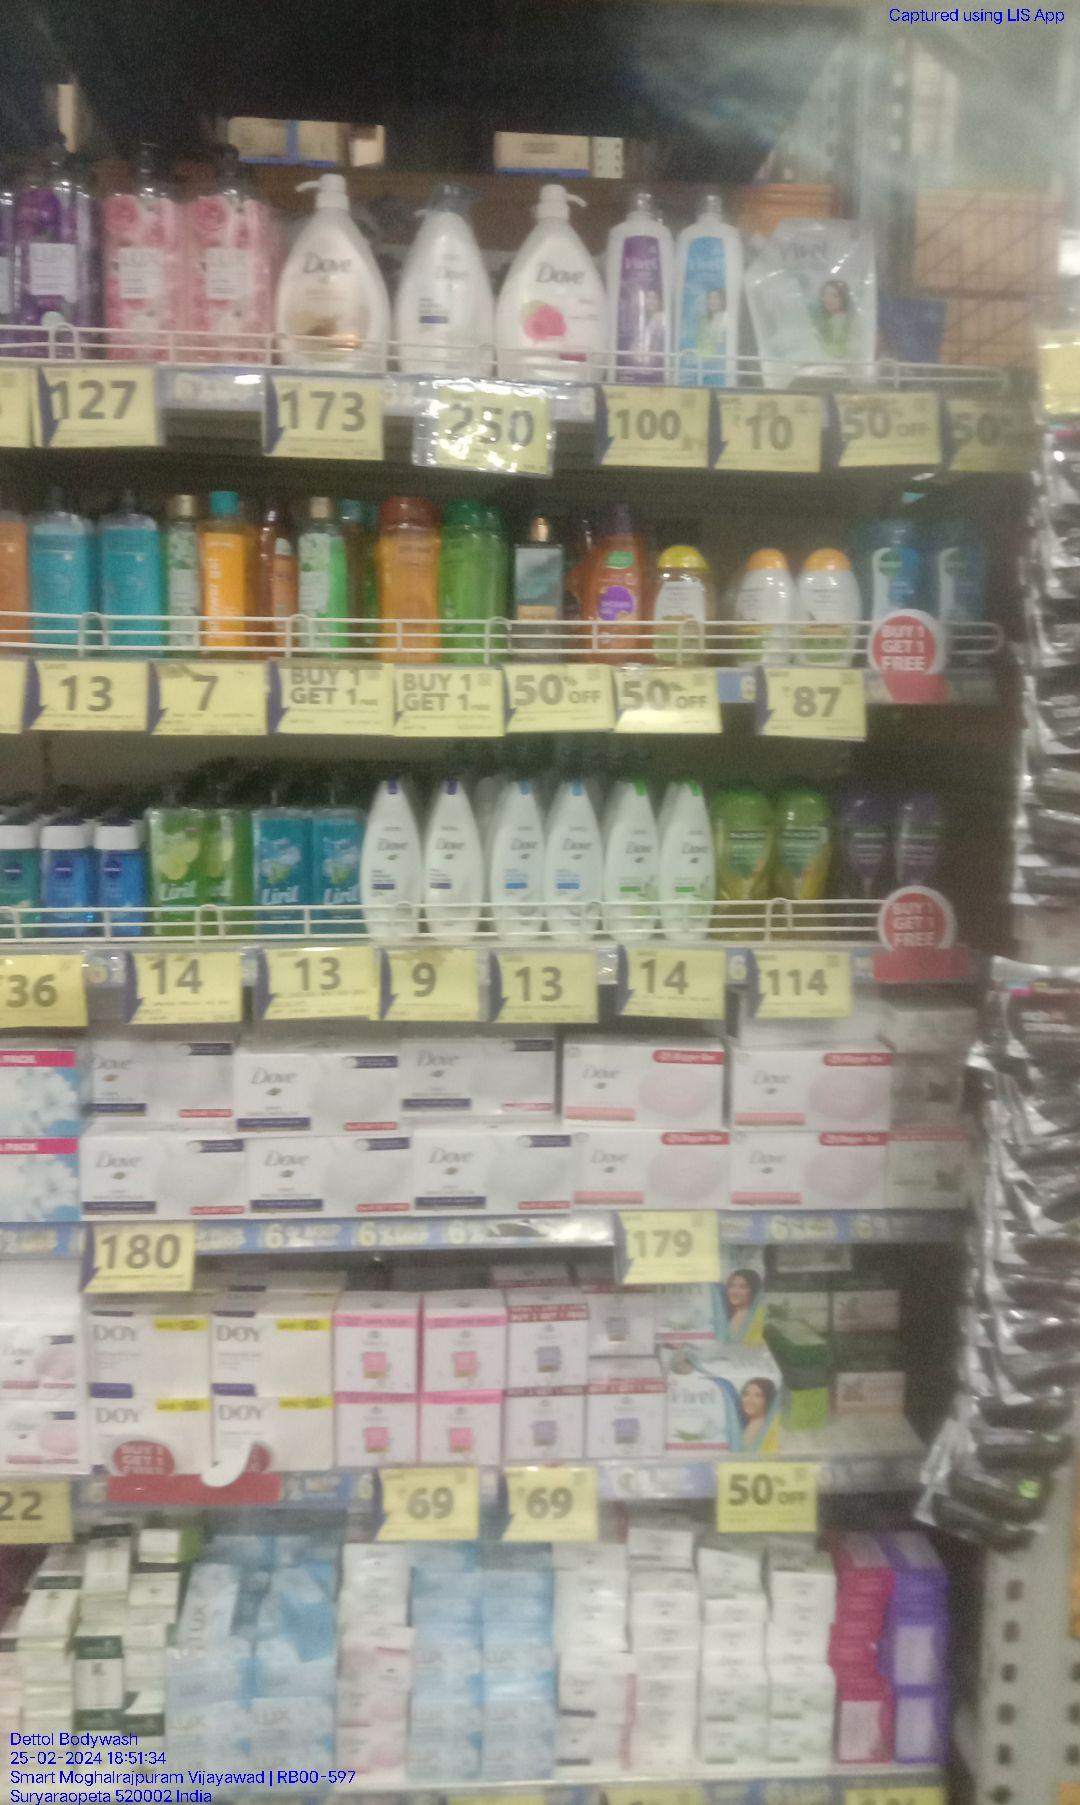Dettol_Bodywash_Cool: (870, 519, 930, 672), (941, 517, 991, 674)
Dove_Deep_Moisture_Body_Wash_250ML: (363, 778, 422, 941), (424, 777, 480, 936)
Dove_Gentle_Exfoliating_Body_Wash_250ML: (608, 779, 660, 946), (491, 783, 544, 940), (662, 778, 712, 942), (548, 780, 599, 940)
Get_Real_Shower_Gel_Moisturising_Glycerin_300ML: (378, 495, 441, 666)
Joy_Shower_Gel_Mandarin_and_Lemongrass_250ML: (588, 500, 647, 661)
Liril_Cooling_Mint_Body_Wash_250ML: (256, 778, 307, 933), (314, 779, 357, 940)
Liril_Lime_and_Tea_Tree_Oil_Body_Wash_250ML: (148, 788, 210, 938), (211, 787, 251, 932)
Lux_Body_Wash_Skin_Detox_Freesia_Scent_and_Alove_Vera_245ML: (301, 494, 347, 662), (170, 492, 207, 656)
Palmolive_Aroma_Morning_Tonic_Shower_Gel_250ML: (719, 779, 773, 941), (779, 778, 831, 937)
Palmolive_Aroma_Relax_250ML: (834, 782, 892, 942), (899, 784, 954, 923)
Pears_Pure_Glycerin_and_Mint_Extracts_Body_Wash_250ML: (99, 483, 165, 658), (28, 480, 95, 647)
